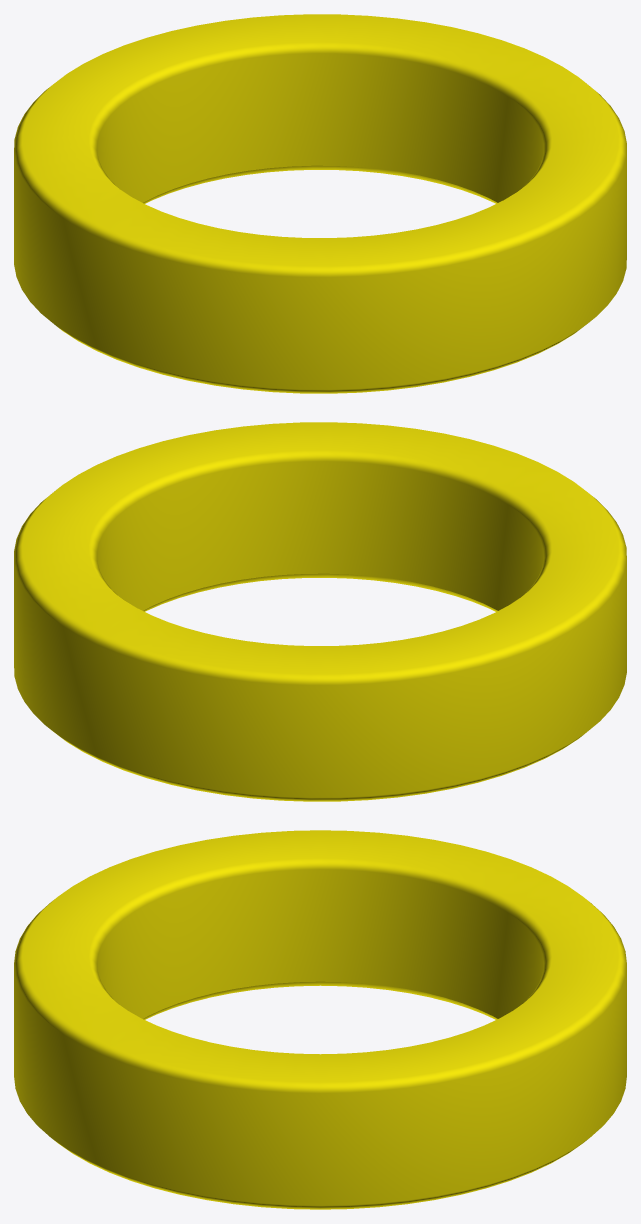
The picture shows the model from 3 angles, top to bottom: view 1: azimuth 30°, elevation 25°; view 2: azimuth 150°, elevation 25°; view 3: azimuth 270°, elevation 25°; orthographic projection.
Visible parts, largest first — view 1: seal_body; view 2: seal_body; view 3: seal_body.
Part boxes in pixels (x1,y1,x2,y2): seal_body: [14, 14, 626, 393]; seal_body: [14, 422, 626, 801]; seal_body: [14, 830, 626, 1209].
Bounding box in the file's own units: 0.0305 × 0.007 × 0.0305.
